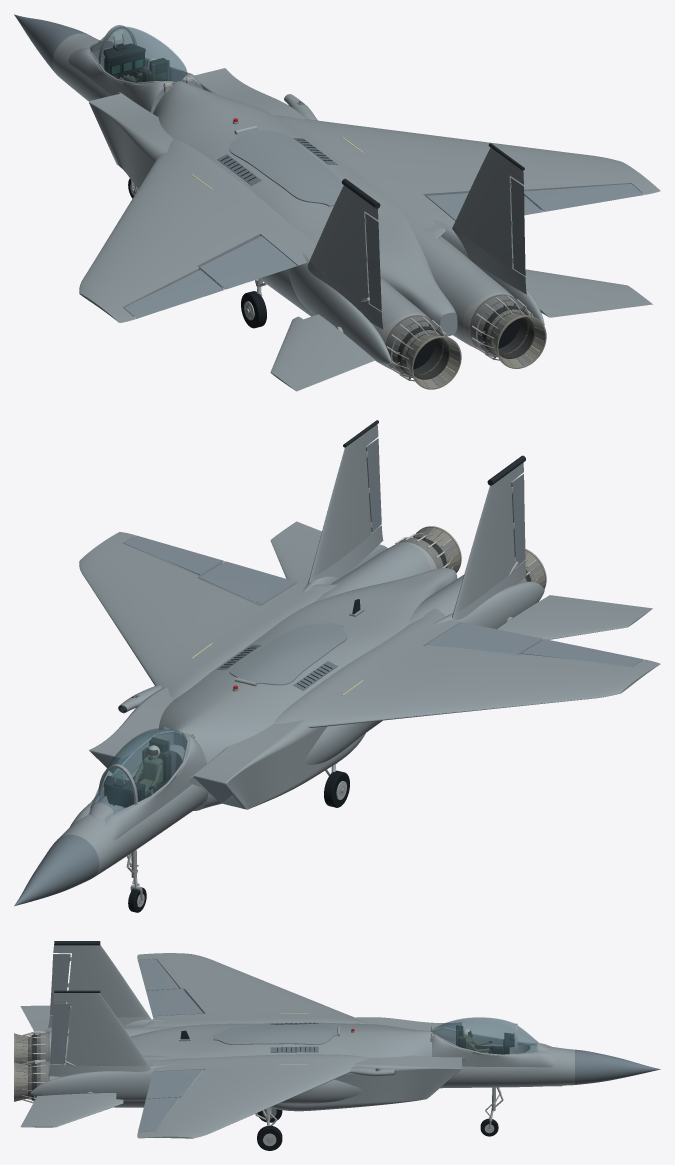
The model's file is complete.glb.
3 views of the same model, one above another, from view 1: azimuth 30°, elevation 25°; view 2: azimuth 150°, elevation 25°; view 3: azimuth 270°, elevation 25° (orthographic). The views are drawn at different scales.
Parts seen in each view (by area): view 1: Fuselage, Wing_fixed_Left, Wing_fixed_Right, Airbrake_panel, Stabilator_Left_skin, Fin_Right, Fin_Left, Intake_skin_Left, Stabilator_Right_skin, Canopy_glass, Flap_Left_skin, Aileron_Left_skin (+12 smaller); view 2: Fuselage, Wing_fixed_Left, Wing_fixed_Right, Intake_skin_Left, Fin_Right, Fin_Left, Stabilator_Left_skin, Airbrake_panel, Canopy_glass, Radome, Intake_skin_Right, Flap_Left_skin (+9 smaller); view 3: Fuselage, Wing_fixed_Right, Wing_fixed_Left, Intake_skin_Right, Fin_Right, Fin_Left, Stabilator_Right_skin, Canopy_glass, Airbrake_panel, Radome, Flap_Right_skin, Flap_Left_skin (+10 smaller).
Boxes of the visible parts, <box> form: Fuselage: <box>52,33,544,368</box>; Wing_fixed_Left: <box>79,139,316,322</box>; Wing_fixed_Right: <box>274,115,660,228</box>; Airbrake_panel: <box>229,128,343,206</box>; Stabilator_Left_skin: <box>270,314,375,391</box>; Fin_Right: <box>453,147,525,284</box>; Fin_Left: <box>310,185,382,319</box>; Intake_skin_Left: <box>89,93,173,189</box>; Stabilator_Right_skin: <box>522,269,652,317</box>; Canopy_glass: <box>100,26,186,82</box>; Flap_Left_skin: <box>199,236,297,289</box>; Aileron_Left_skin: <box>124,270,223,318</box>; Fuselage: <box>60,543,544,877</box>; Wing_fixed_Left: <box>274,617,660,727</box>; Wing_fixed_Right: <box>79,532,323,699</box>; Intake_skin_Left: <box>192,720,366,809</box>; Fin_Right: <box>308,424,382,583</box>; Fin_Left: <box>452,462,525,618</box>; Stabilator_Left_skin: <box>497,595,652,640</box>; Airbrake_panel: <box>229,622,347,685</box>; Canopy_glass: <box>103,728,186,801</box>; Radome: <box>14,834,99,906</box>; Intake_skin_Right: <box>89,687,174,759</box>; Flap_Left_skin: <box>425,622,542,655</box>; Fuselage: <box>31,1019,574,1107</box>; Wing_fixed_Right: <box>137,1054,368,1138</box>; Wing_fixed_Left: <box>137,953,368,1026</box>; Intake_skin_Right: <box>270,1055,461,1111</box>; Fin_Right: <box>49,993,150,1069</box>; Fin_Left: <box>49,944,150,1020</box>; Stabilator_Right_skin: <box>20,1093,123,1127</box>; Canopy_glass: <box>432,1017,514,1054</box>; Airbrake_panel: <box>213,1024,337,1044</box>; Radome: <box>575,1049,660,1084</box>; Flap_Right_skin: <box>146,1069,204,1098</box>; Flap_Left_skin: <box>146,989,203,1016</box>.
Size of the model in its own units: 13.05 by 5.63 by 19.43.
